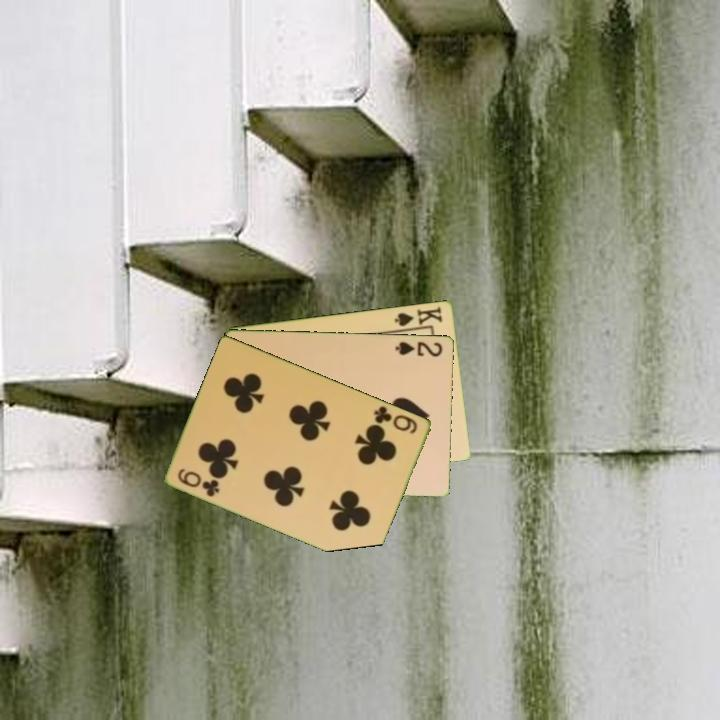2s: (392, 337, 445, 359)
6c: (371, 402, 421, 437), (174, 465, 223, 500)
Ks: (392, 303, 445, 332)
